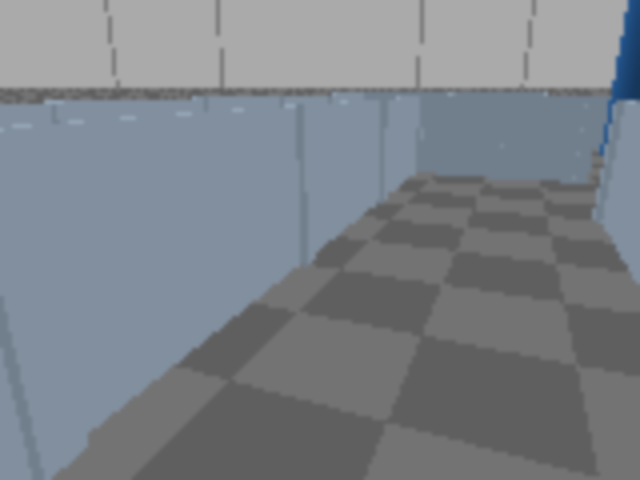person: (600, 0, 638, 162)
